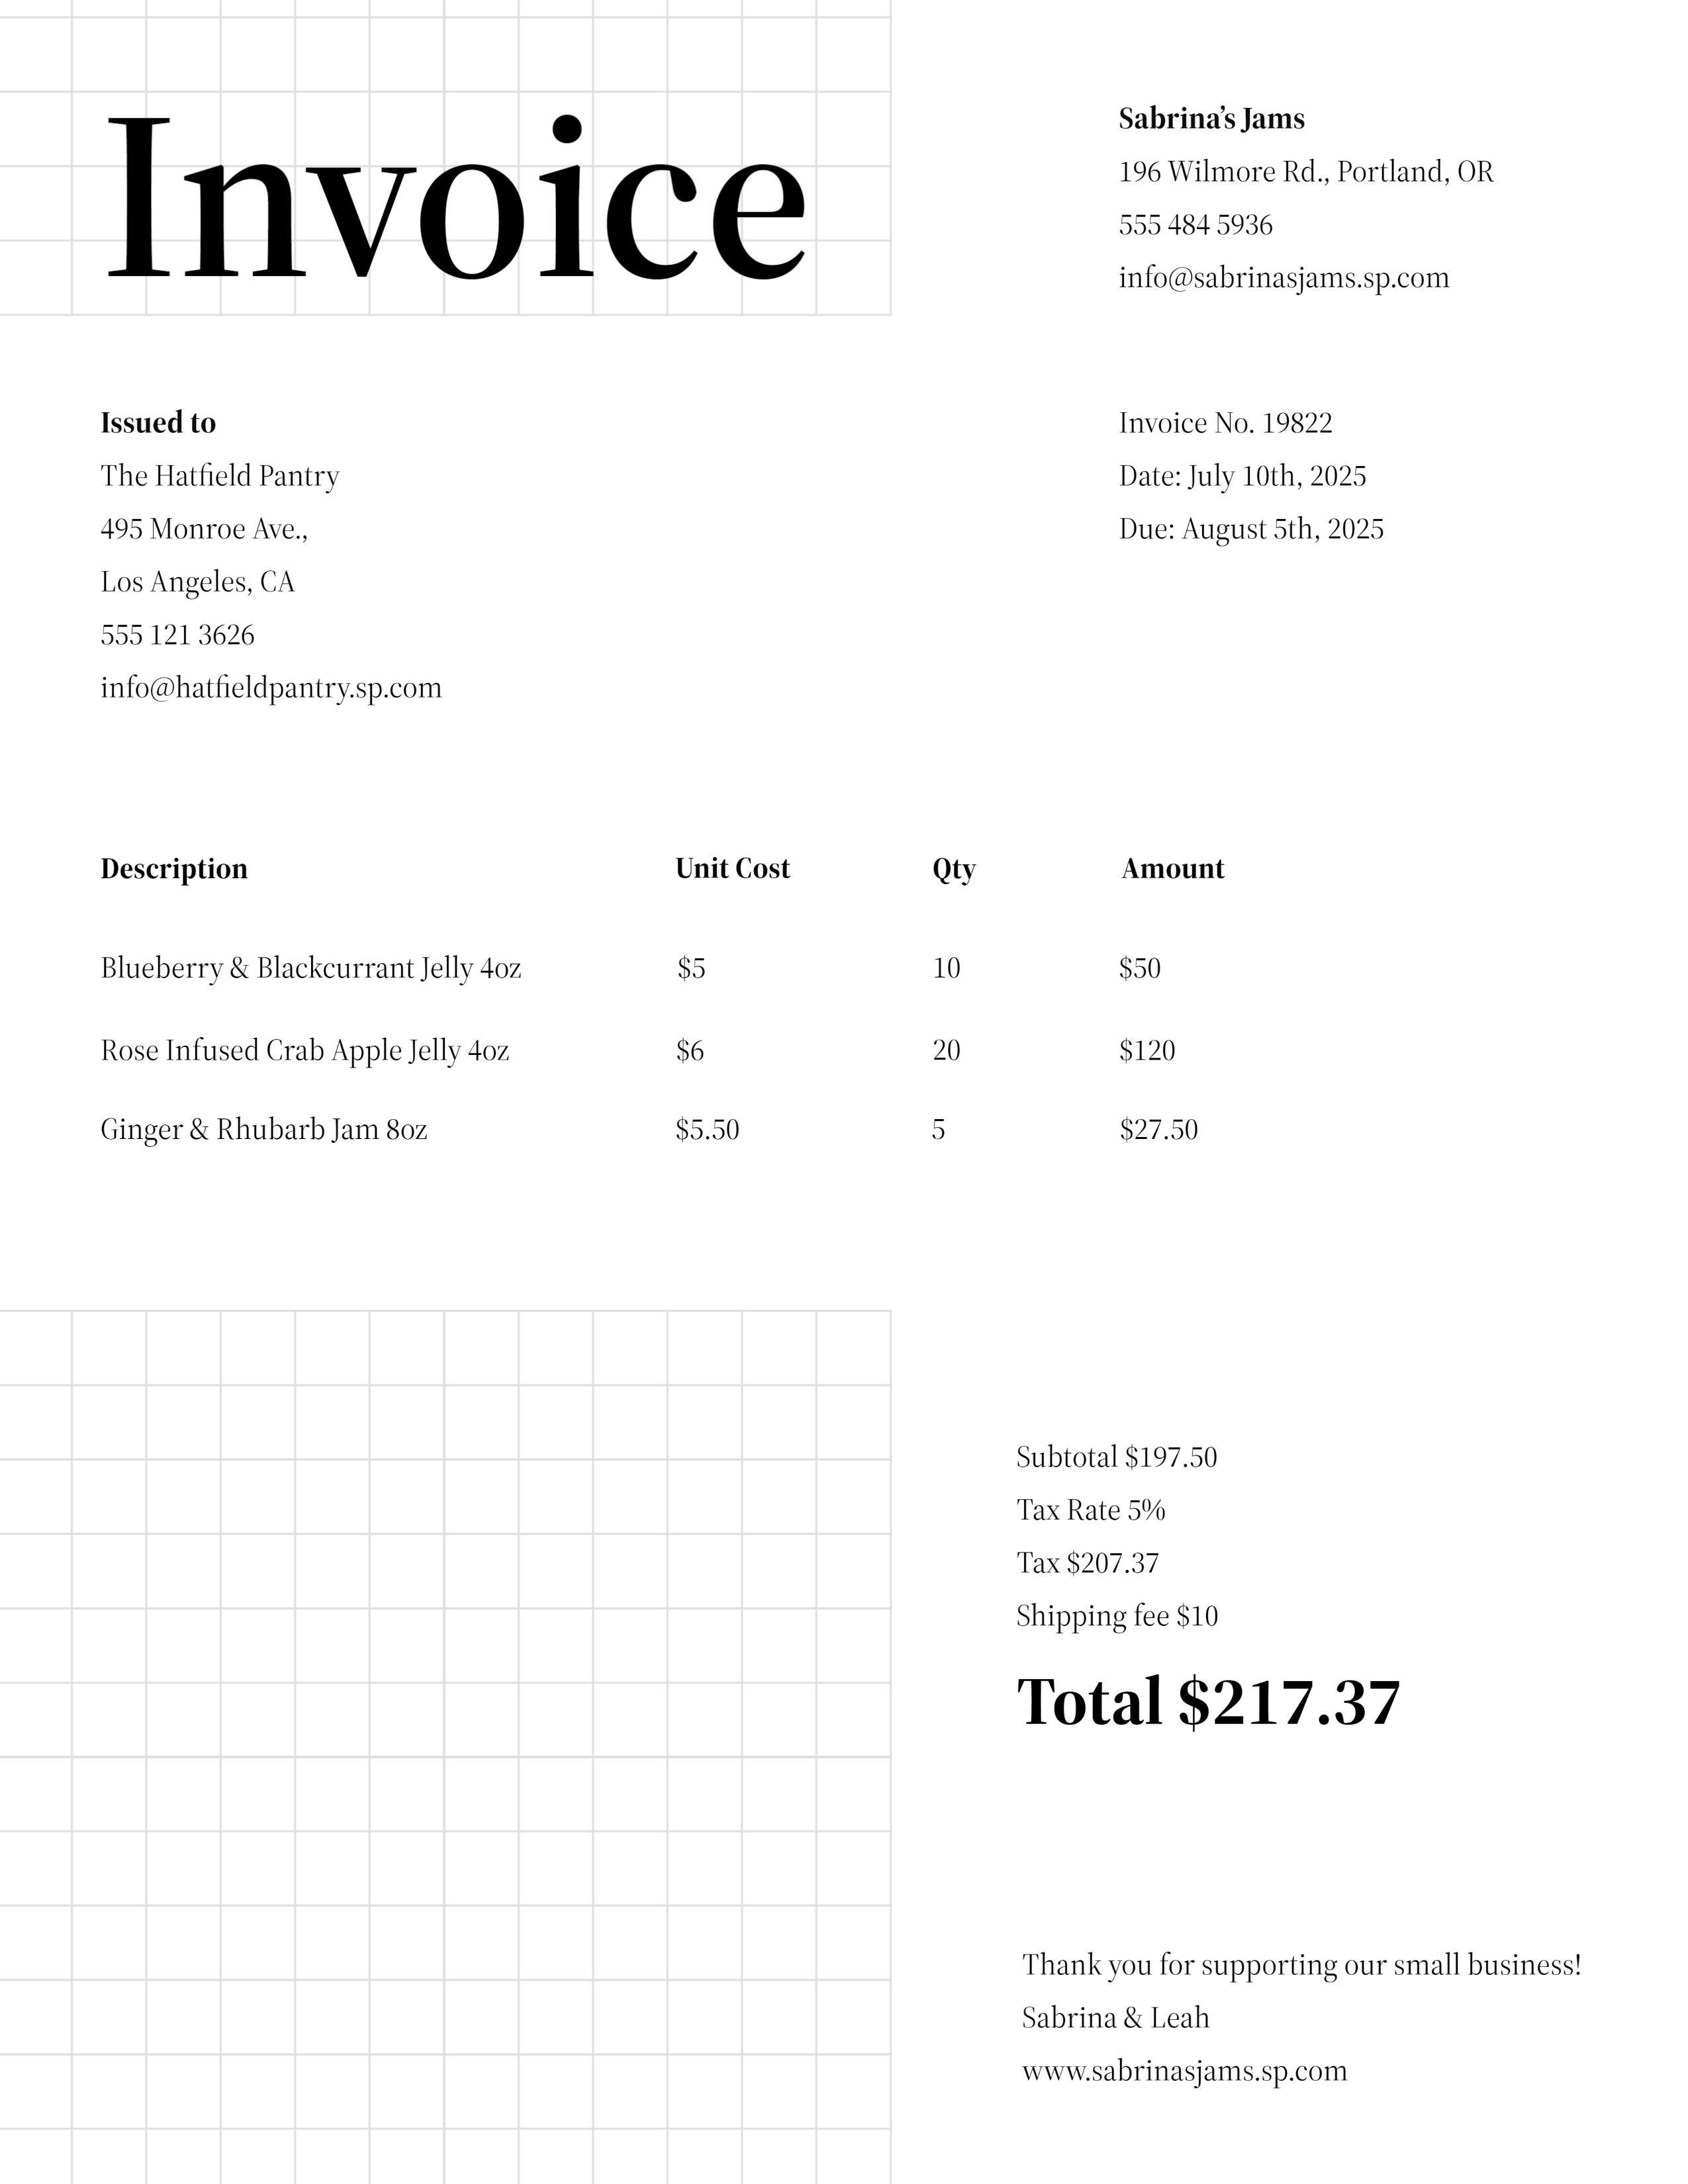ROI: (96, 849, 1246, 1158), (993, 1422, 1431, 1775), (89, 406, 465, 716), (1099, 92, 1516, 298), (1106, 394, 1417, 555)
